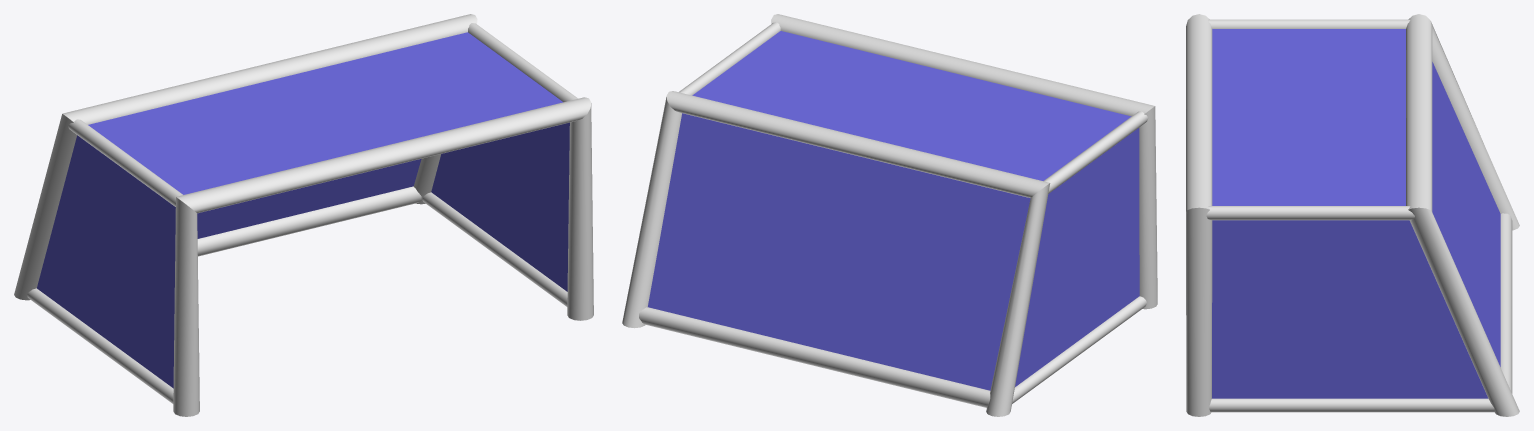
File: GoalPost.fbx
3 views of the same model, side by side, from view 1: azimuth 30°, elevation 25°; view 2: azimuth 150°, elevation 25°; view 3: azimuth 270°, elevation 25° (orthographic). The views are drawn at different scales.
Visible parts, largest first — view 1: GoalPost; view 2: GoalPost; view 3: GoalPost.
Boxes of the visible parts, box(x1,y1,x2,y2) form: GoalPost: box(14, 14, 593, 416); GoalPost: box(622, 14, 1157, 416); GoalPost: box(1186, 14, 1519, 416).
Bounding box in the file's own units: 212 × 104 × 152.
